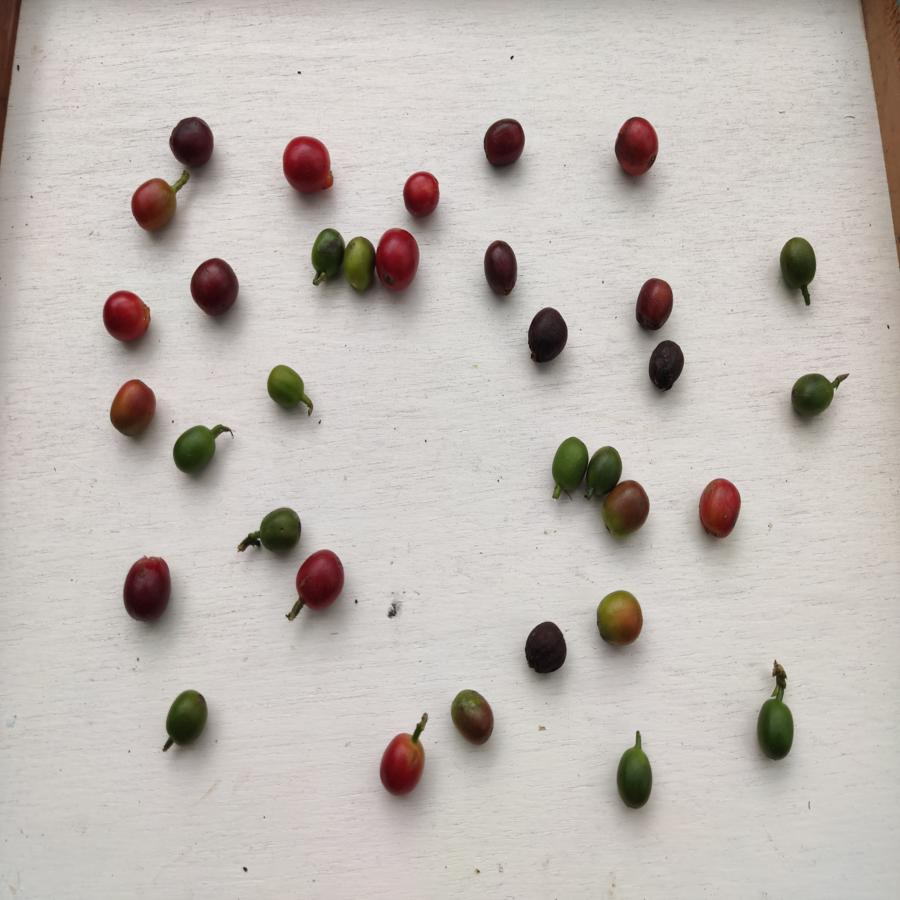Inmaduro: (163, 685, 218, 749), (753, 693, 802, 763), (789, 368, 837, 426), (618, 744, 657, 811), (302, 220, 343, 281), (550, 432, 587, 498), (779, 233, 820, 292), (258, 505, 306, 554), (172, 424, 218, 475), (340, 235, 375, 297), (265, 366, 308, 409), (586, 443, 622, 493)
Maduro: (280, 131, 340, 197), (128, 176, 180, 239), (379, 741, 435, 799), (614, 116, 662, 183), (100, 290, 154, 344), (376, 229, 421, 293), (699, 476, 742, 541), (402, 164, 441, 218)
Pinton: (590, 591, 651, 651), (603, 481, 655, 545), (107, 378, 158, 441), (450, 689, 500, 747)
Sobremaduro: (120, 552, 176, 624), (187, 256, 241, 318), (526, 302, 571, 367), (166, 116, 221, 169), (525, 617, 568, 681), (481, 236, 522, 299), (482, 116, 527, 171), (647, 337, 688, 391), (635, 276, 673, 331)
